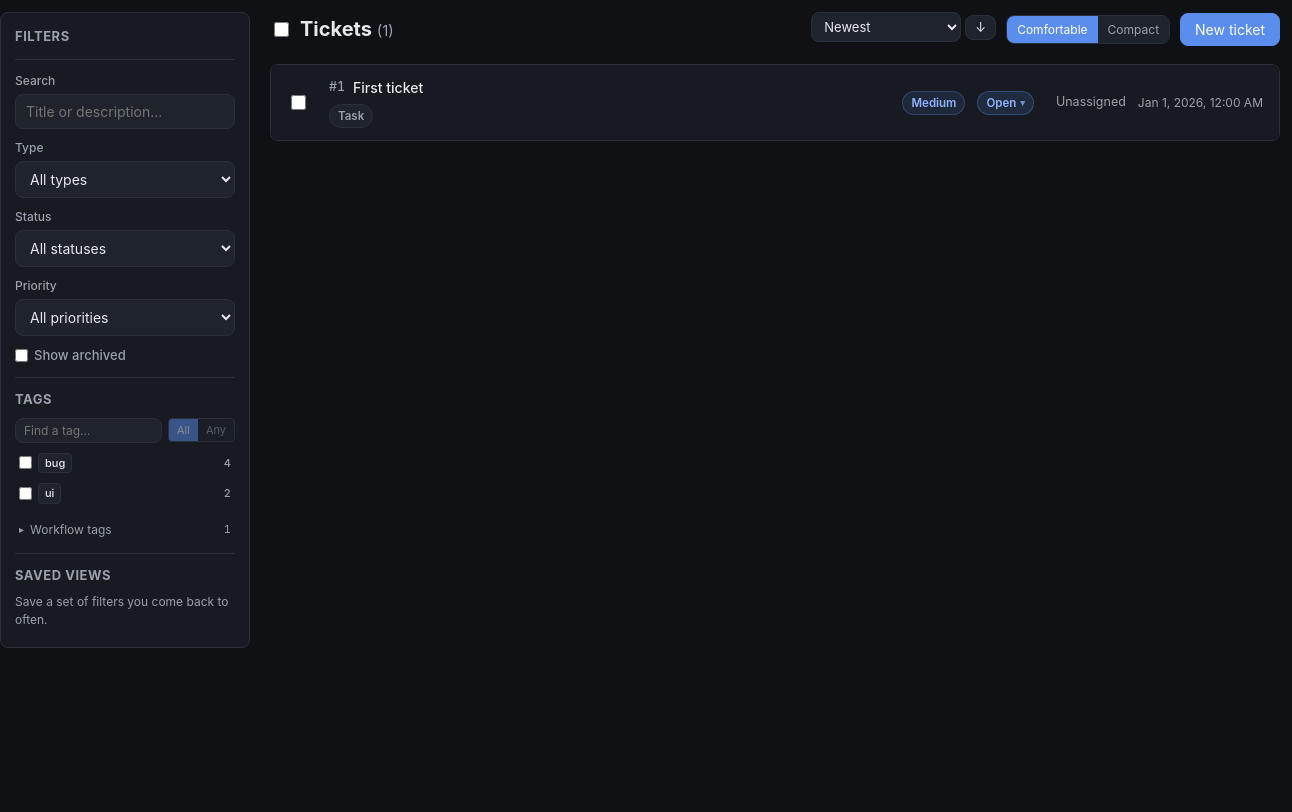
Test case: TicketList tag filtering › lists free tags with their counts and hides workflow tags behind a group
Expected: the checkbox labelled "bug" is shown, [19,456,32,469]
Expected: the checkbox labelled "ui" is shown, [19,487,32,500]
Click the button "▸ Workflow tags 1": (125, 529) [15,518,235,540]
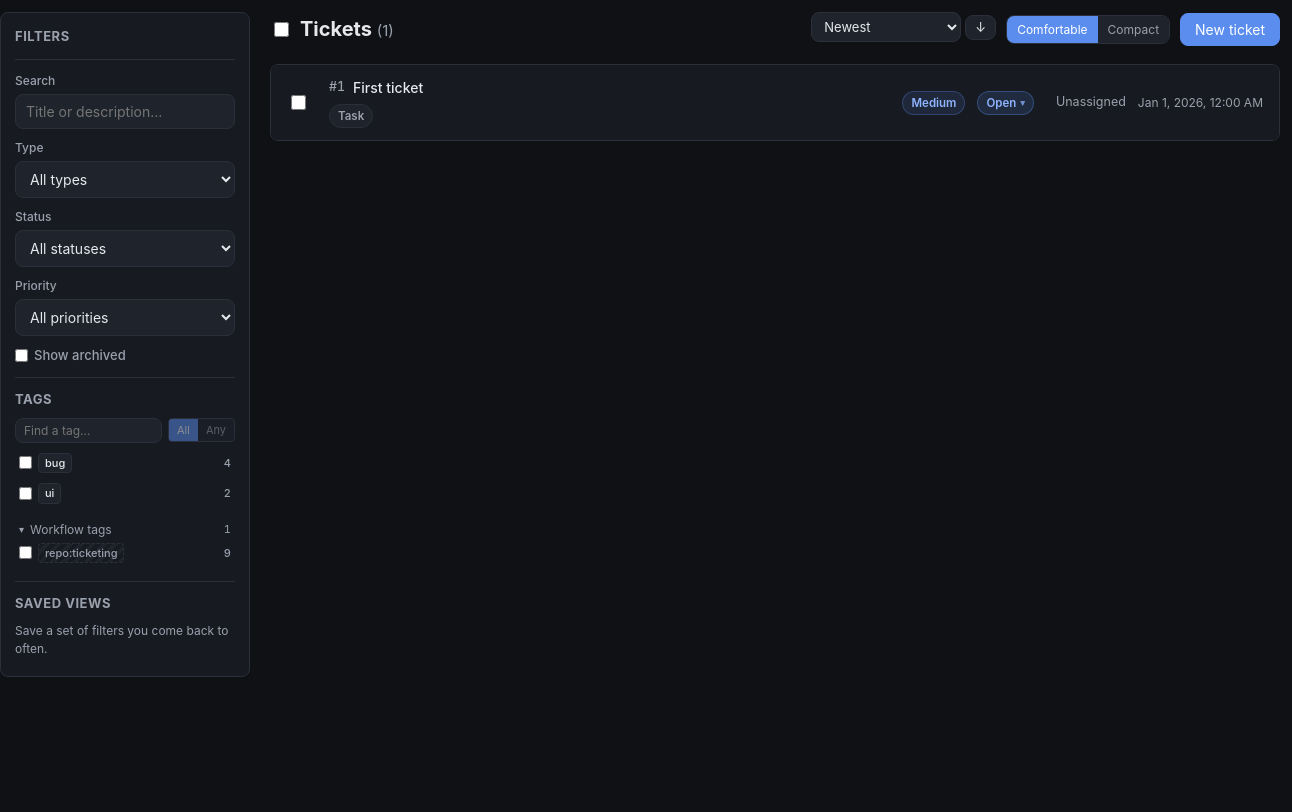
Result: the checkbox labelled "repo:ticketing" is shown at [19,546,32,559]
